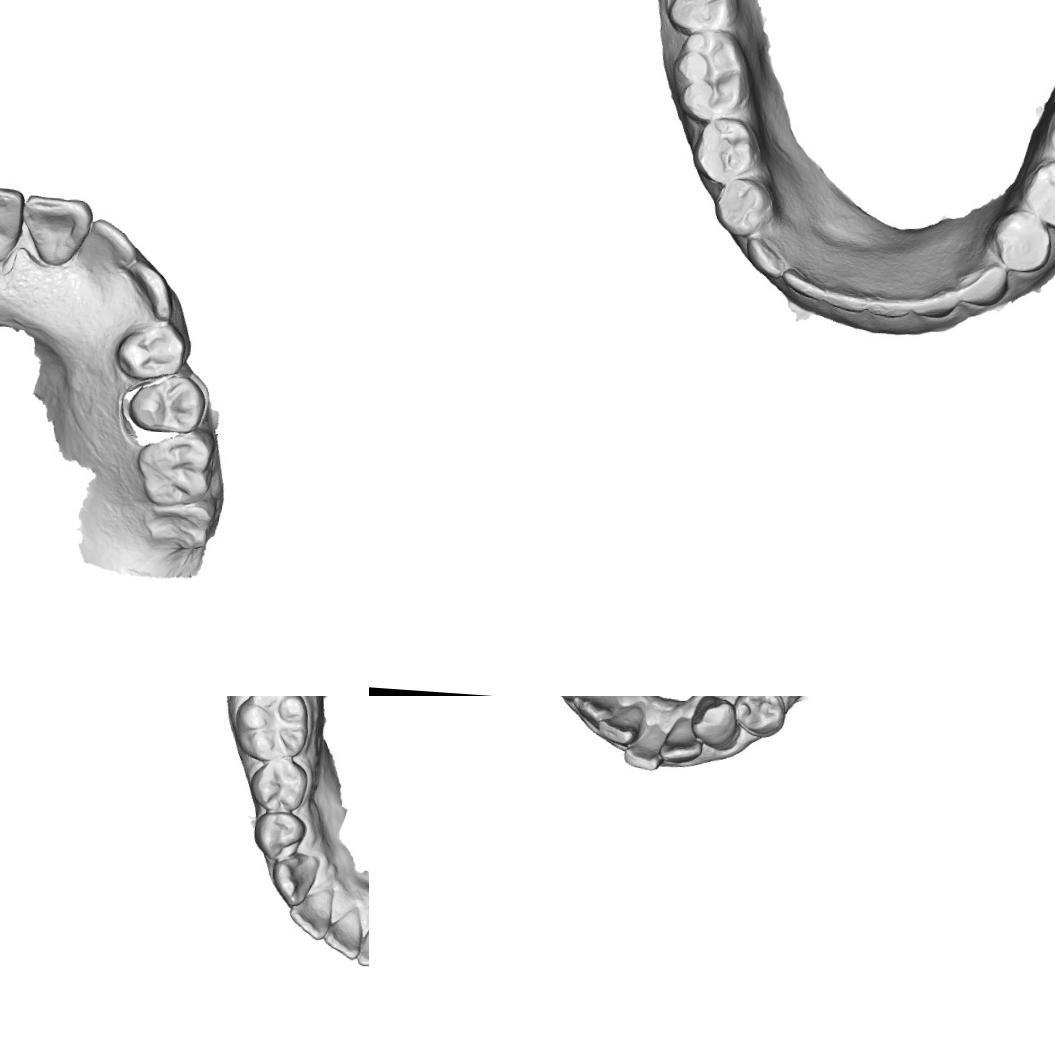canine: (124, 256, 179, 322), (687, 696, 742, 753), (268, 850, 321, 908), (956, 258, 1010, 308), (741, 230, 789, 280)
incisor: (20, 189, 95, 269), (82, 214, 141, 272), (286, 884, 335, 942), (594, 699, 645, 751), (321, 902, 366, 960), (657, 713, 707, 765), (621, 718, 666, 772), (815, 278, 872, 319), (0, 179, 26, 265), (908, 288, 962, 322), (570, 696, 622, 726), (780, 266, 819, 302), (866, 290, 914, 319), (354, 910, 369, 969)
molar: (670, 26, 756, 122), (134, 430, 213, 510), (229, 696, 311, 763), (661, 0, 742, 37)
premolar: (125, 369, 208, 436), (114, 317, 190, 385), (690, 115, 758, 185), (987, 205, 1054, 276), (709, 173, 775, 237), (246, 757, 309, 814), (250, 808, 308, 864), (1021, 156, 1055, 231), (730, 696, 787, 738)
